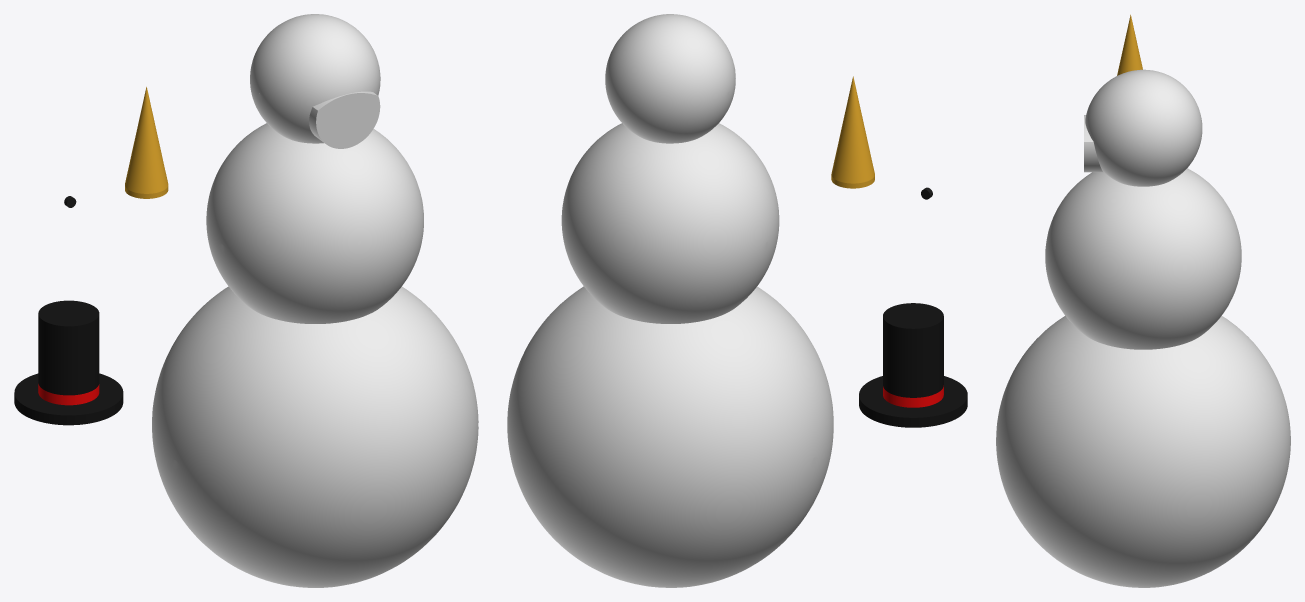
Rendered from snowman.dae.
The picture shows the model from 3 angles, left to right: view 1: azimuth 30°, elevation 25°; view 2: azimuth 150°, elevation 25°; view 3: azimuth 270°, elevation 25°; orthographic projection. The views are drawn at different scales.
Parts seen in each view (by area): view 1: geometry-lumionModel (×8); view 2: geometry-lumionModel (×7); view 3: geometry-lumionModel (×5).
Boxes of the visible parts, x1,y1,x2,y2 form: geometry-lumionModel (×8): [14, 14, 478, 587]; geometry-lumionModel (×7): [507, 14, 967, 587]; geometry-lumionModel (×5): [996, 14, 1290, 587].
Bounding box in the file's own units: 4.59 × 3 × 5.6.
